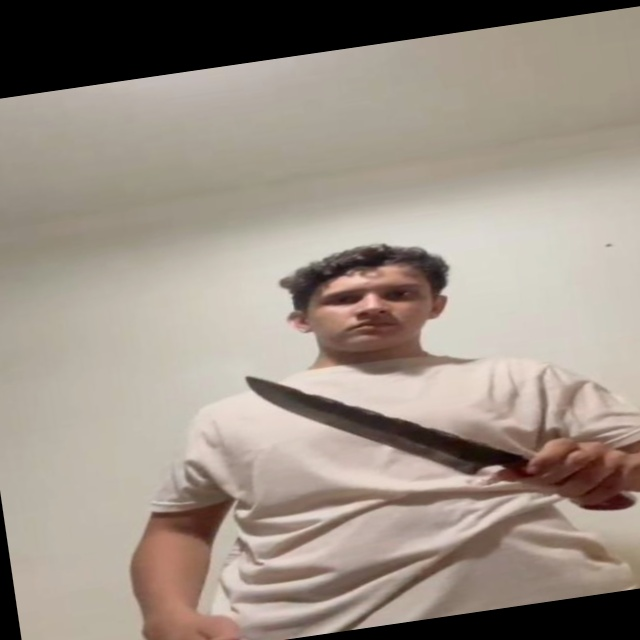Sharp-Object: (239, 341, 496, 502)
